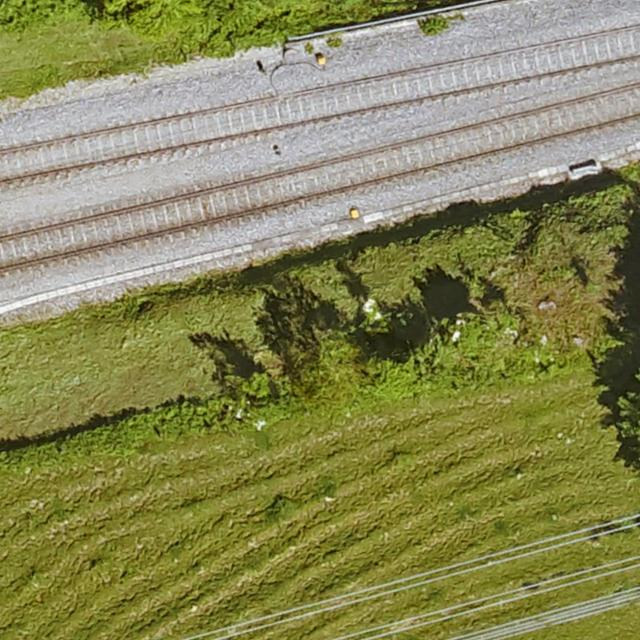tree: (494, 186, 623, 348), (280, 325, 365, 404), (417, 15, 452, 37)
